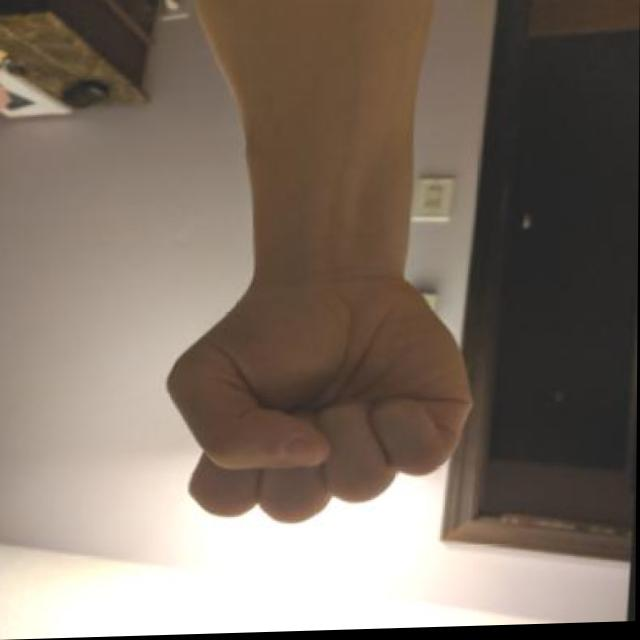S: (148, 261, 486, 545)
